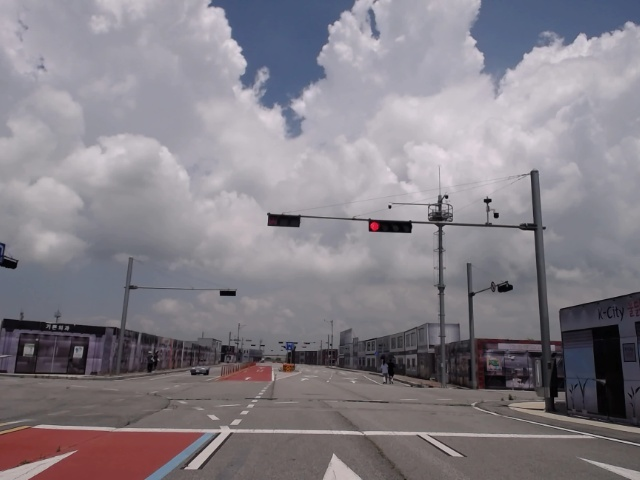red_4: (369, 220, 412, 233)
